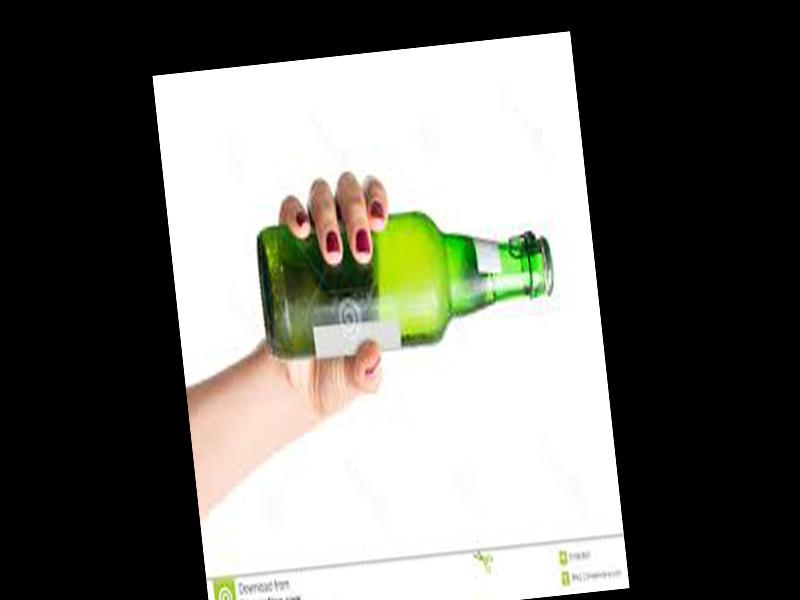Beer: (253, 197, 561, 367)
